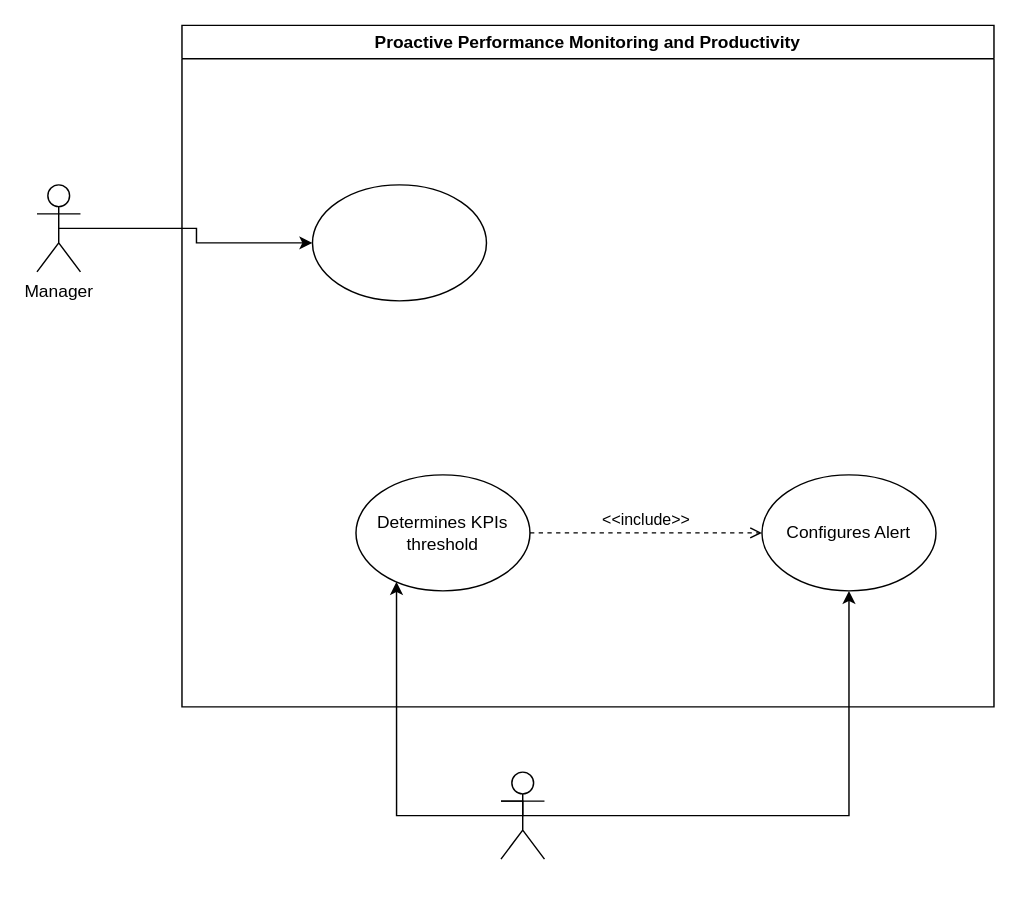
Image size: 1019x915. Some labels were removed from this diagram. The shapes that lost their labels are listed below. From the top down, each one's box as (x1, y1, x2, y2) in pixels, then its label:
(311, 183, 486, 301): Create and send KPI to HR
(500, 771, 544, 859): HR
